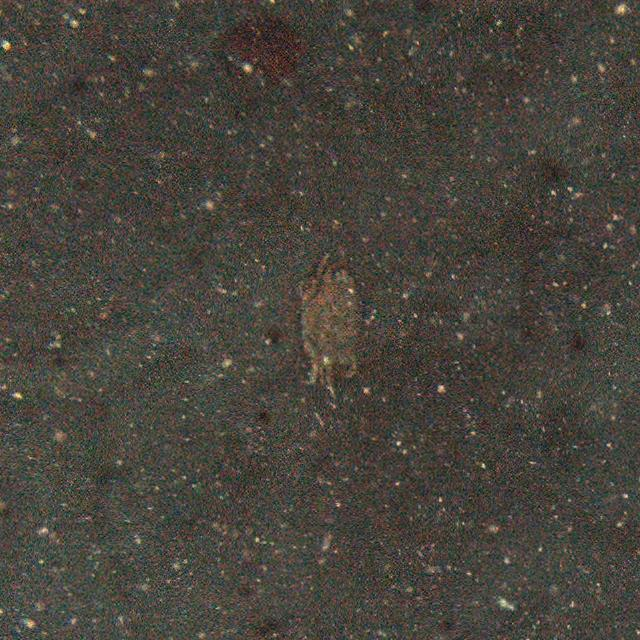crab: (294, 247, 370, 383)
